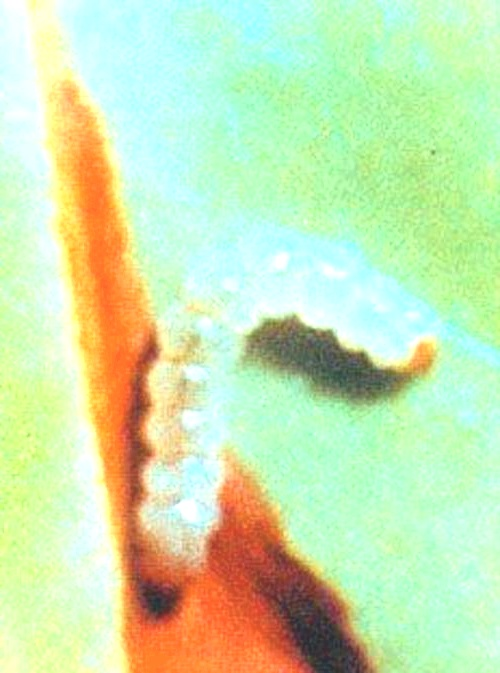Borer: (122, 251, 436, 598)
